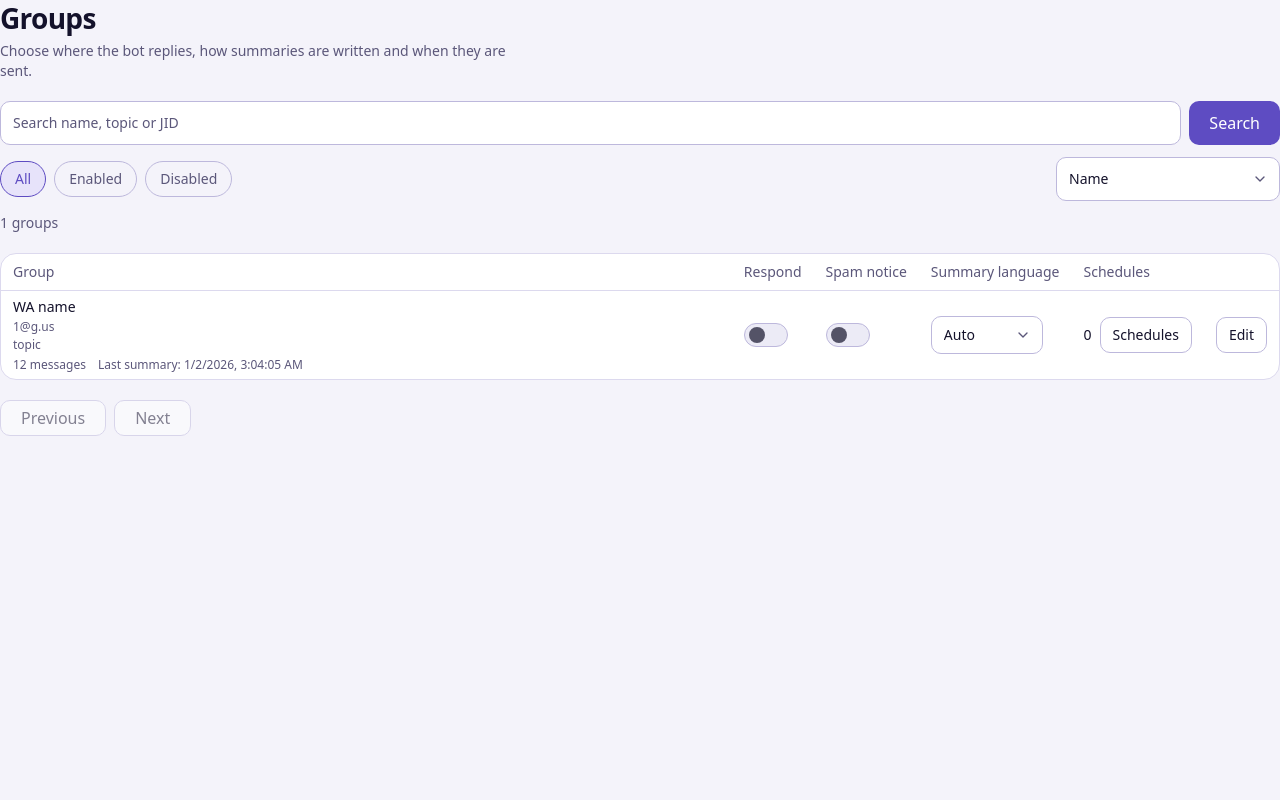
it: Groups page › shows the owner read-only in the dialog
Click the button with aria-label "edit 1@g.us". click: [1241, 335]
box: left=1216, top=317, right=1267, bottom=353
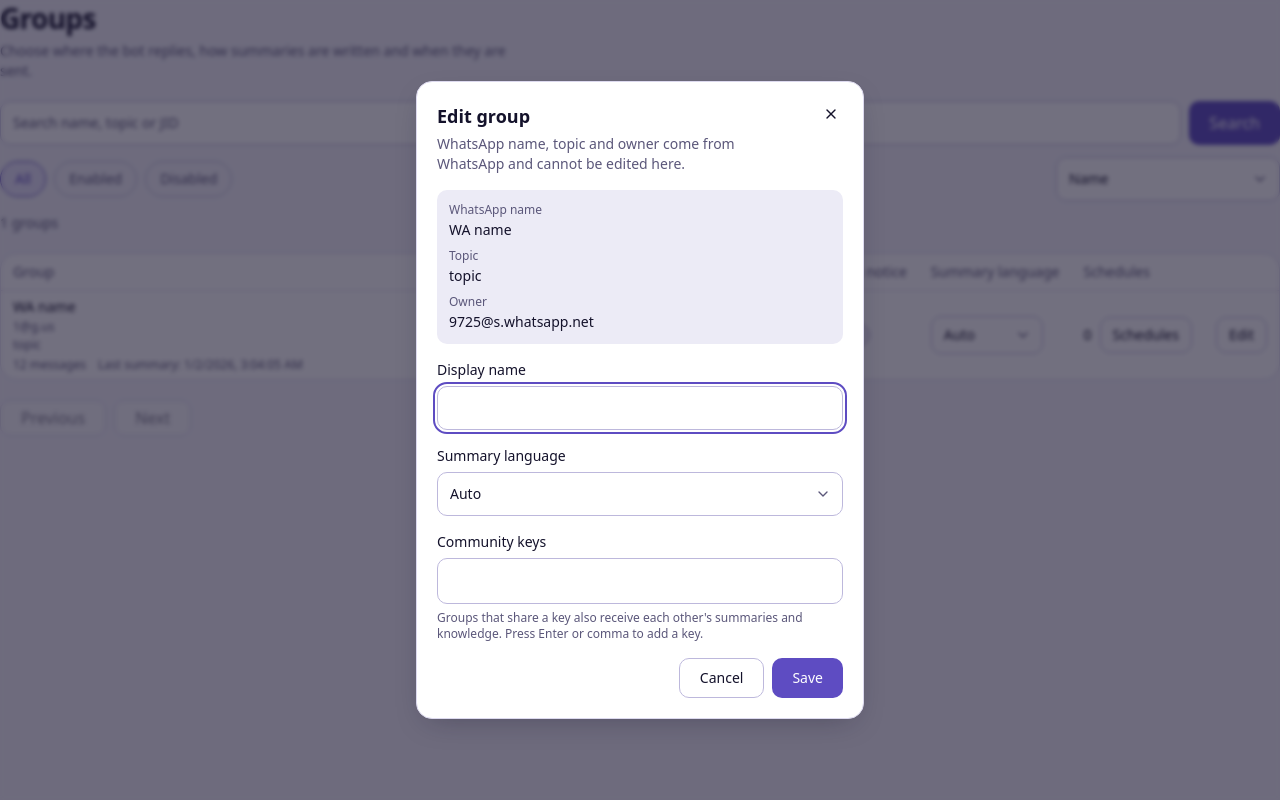
Check: the text "9725@s.whatsapp.net" is shown, box left=449, top=312, right=594, bottom=331
